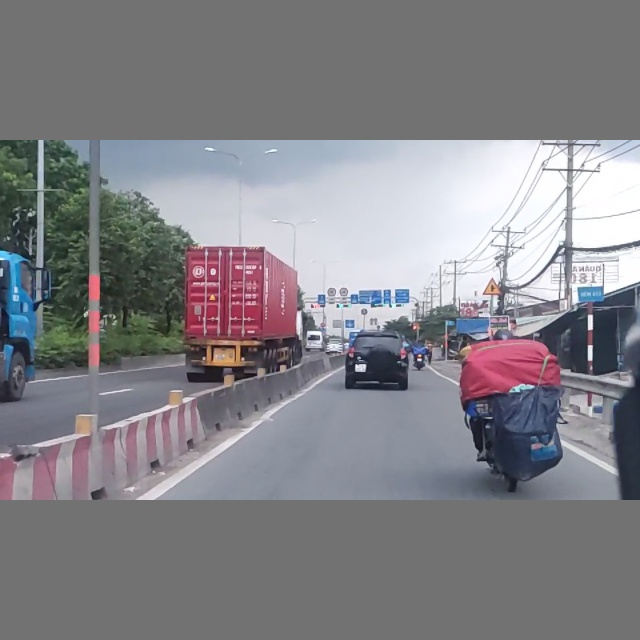P.127*60: (337, 287, 349, 300)
W.207: (481, 277, 503, 296)
